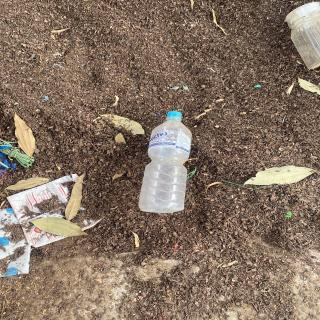Plastic-bottle: (138, 110, 195, 216)
